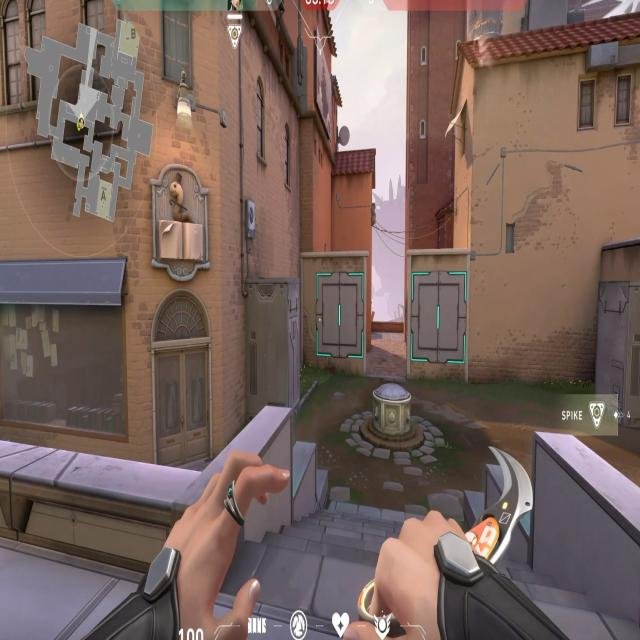Mid_Wall: (410, 267, 468, 372), (315, 270, 366, 370)
